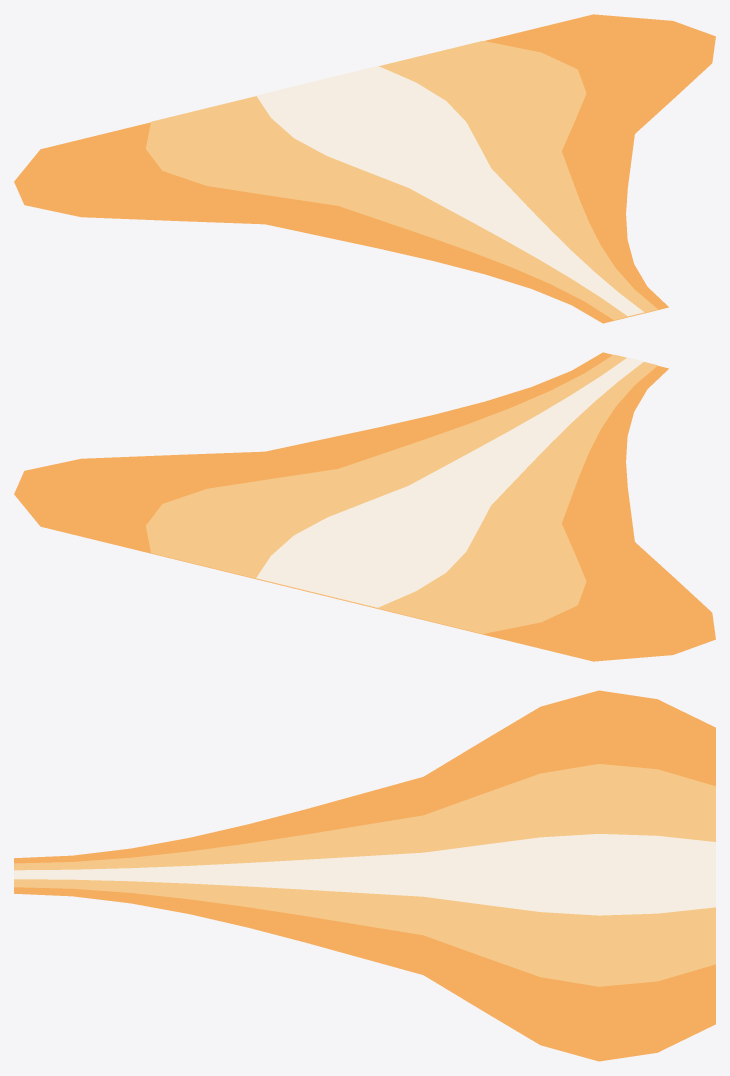
The model's file is gargantua_tidal_stream.glb.
3 views of the same model, one above another, from view 1: azimuth 30°, elevation 25°; view 2: azimuth 150°, elevation 25°; view 3: azimuth 270°, elevation 25° (orthographic). The views are drawn at different scales.
Visible parts, largest first — view 1: gargantua_tidal_stream; view 2: gargantua_tidal_stream; view 3: gargantua_tidal_stream.
Boxes of the visible parts, x1=… form: gargantua_tidal_stream: x1=14, y1=14, x2=715, y2=323; gargantua_tidal_stream: x1=14, y1=352, x2=715, y2=661; gargantua_tidal_stream: x1=14, y1=690, x2=715, y2=1061.
Size of the model in its own units: 1.25 by 0.002 by 1.
